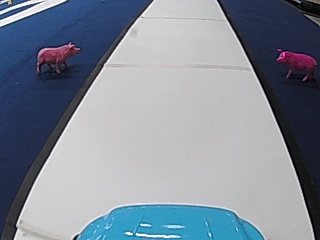pig: (33, 39, 79, 75), (273, 47, 317, 79)
